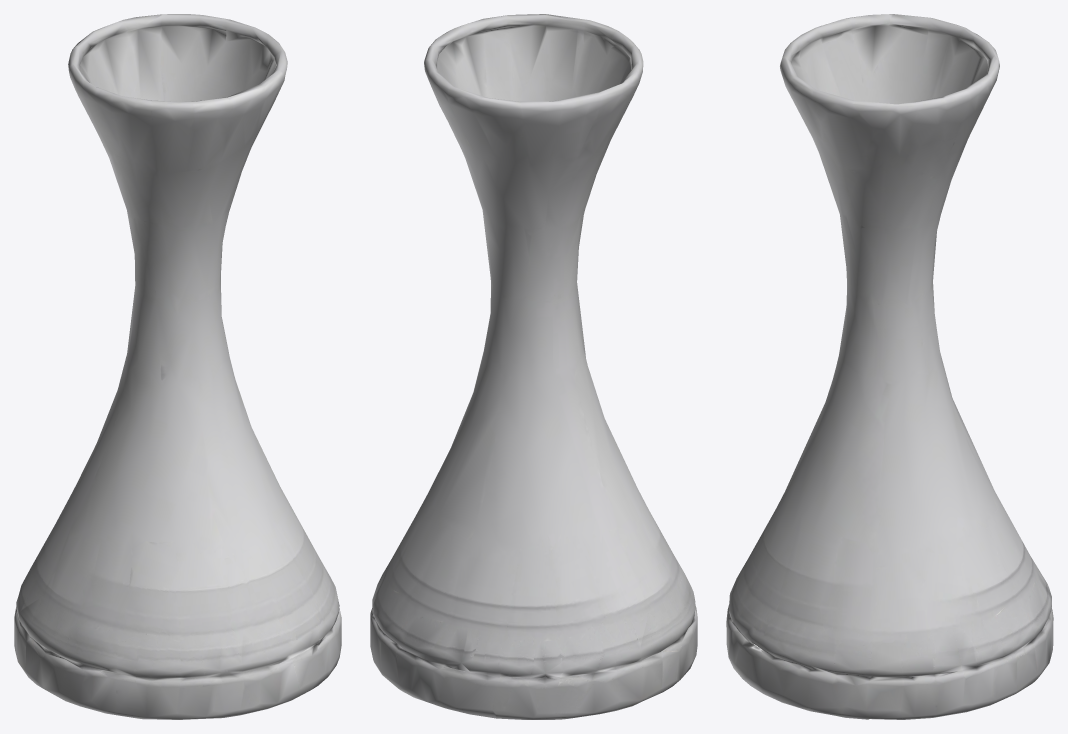
The model's file is pawn-white.glb.
3 views of the same model, side by side, from view 1: azimuth 30°, elevation 25°; view 2: azimuth 150°, elevation 25°; view 3: azimuth 270°, elevation 25° (orthographic).
Size of the model in its own units: 0.5468 by 1.1 by 0.5468.
Materials: 1 (1 with a texture image).
